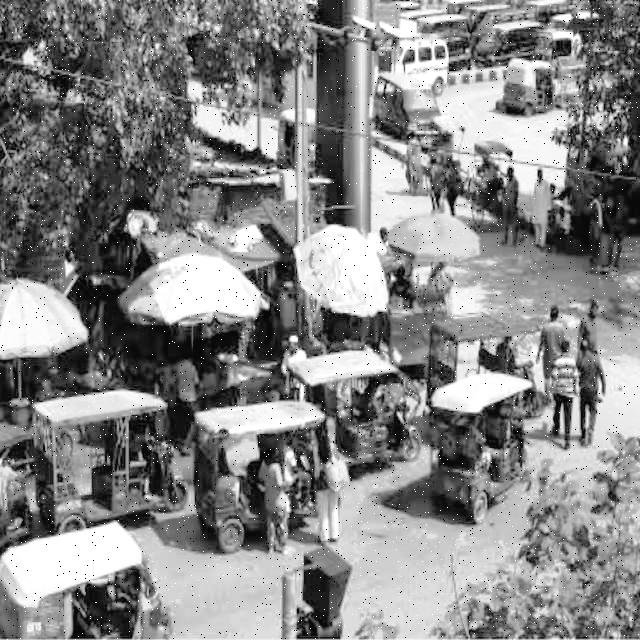Toto: (33, 387, 190, 529), (200, 400, 335, 551), (432, 372, 533, 528), (293, 348, 424, 468)
